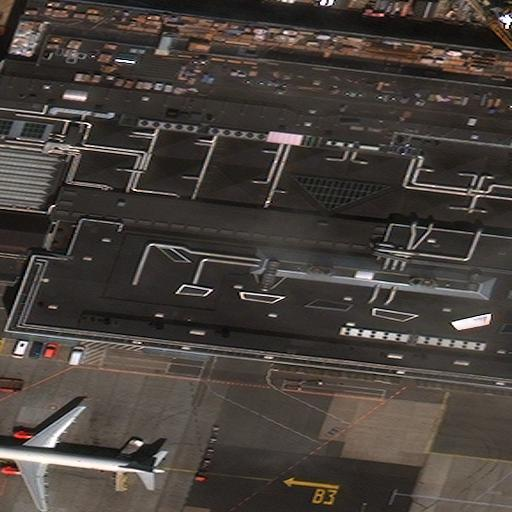Medium Civil Transport: (0, 402, 168, 511)
